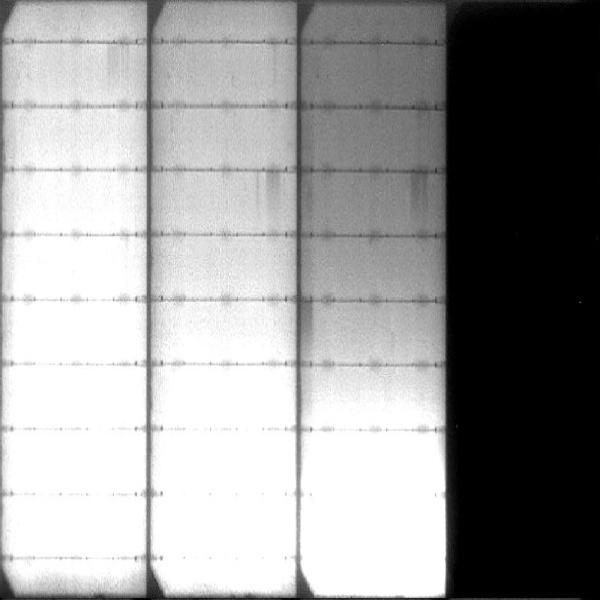hot_spot: (313, 442, 438, 591), (166, 435, 287, 585), (11, 500, 138, 554), (13, 434, 137, 489), (159, 373, 292, 423), (16, 371, 142, 423), (16, 244, 138, 297), (18, 306, 141, 358)
no_electricity: (446, 1, 599, 596)
